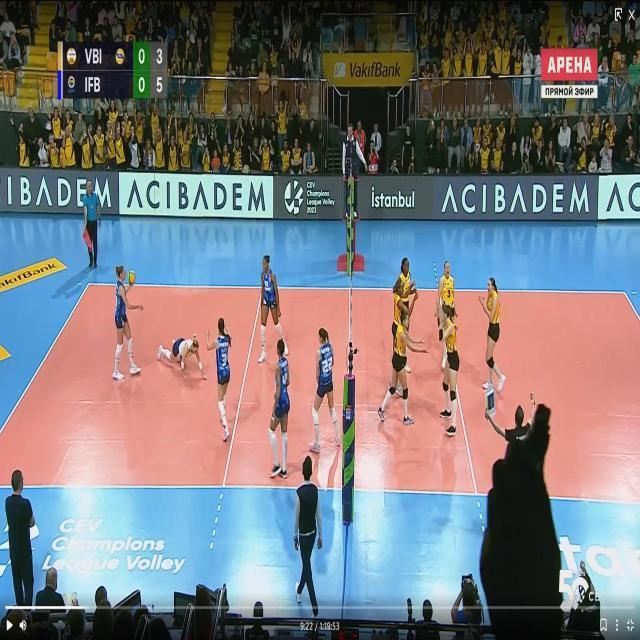volleyball: (127, 271, 136, 285)
